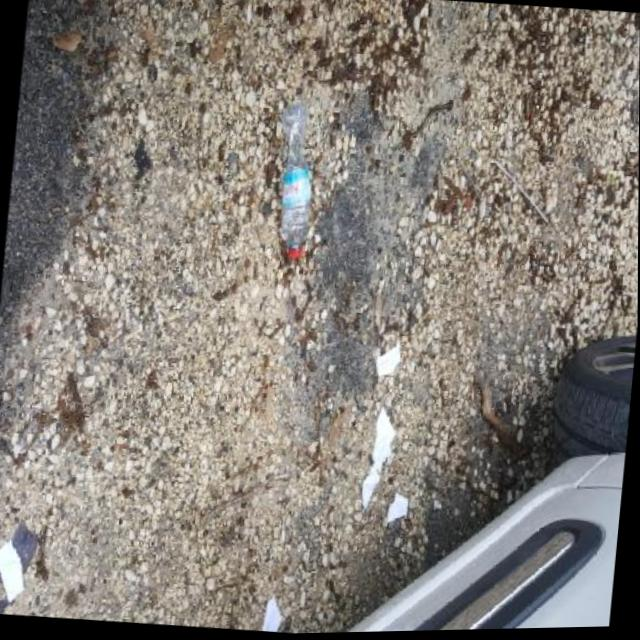plastic: (104, 314, 265, 370)
